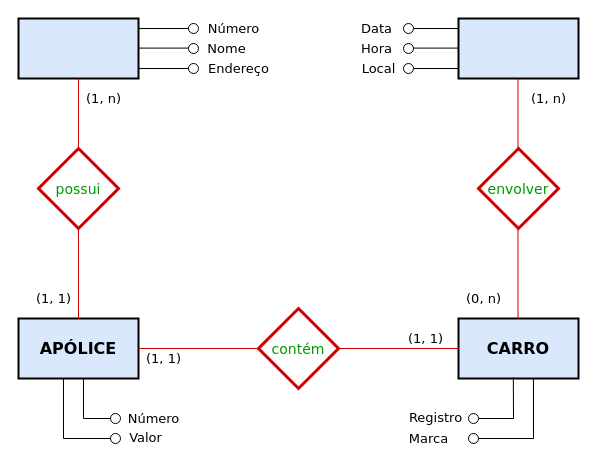
Some shapes in this 596 by 465 pixel diagram are drawn without their labels. The box of each missing label's shape, as (x1, y1, x2, y2) in pixels:
ACIDENTE: (457, 17, 579, 79)
CLIENTE: (17, 17, 139, 79)
